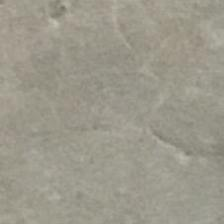Non_Crack: (23, 54, 201, 196)
